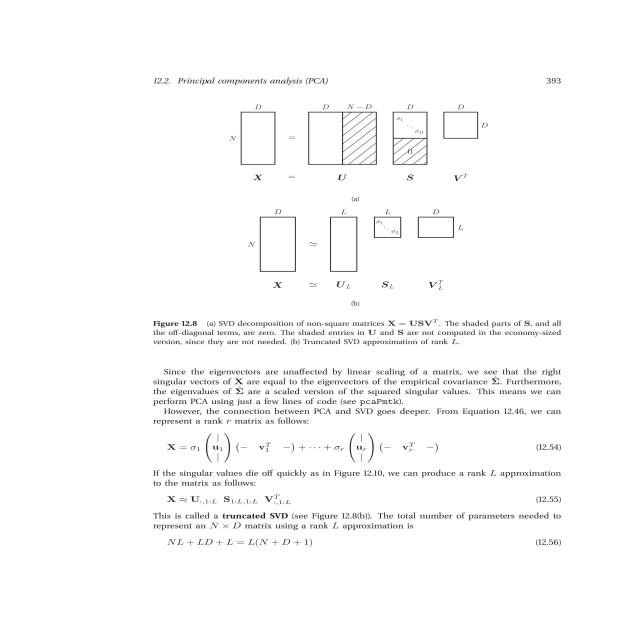diagram: (138, 71, 623, 353)
